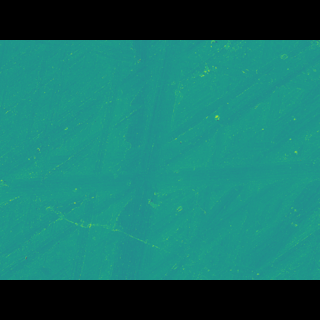Loch: (113, 69, 187, 250), (0, 157, 320, 191)
